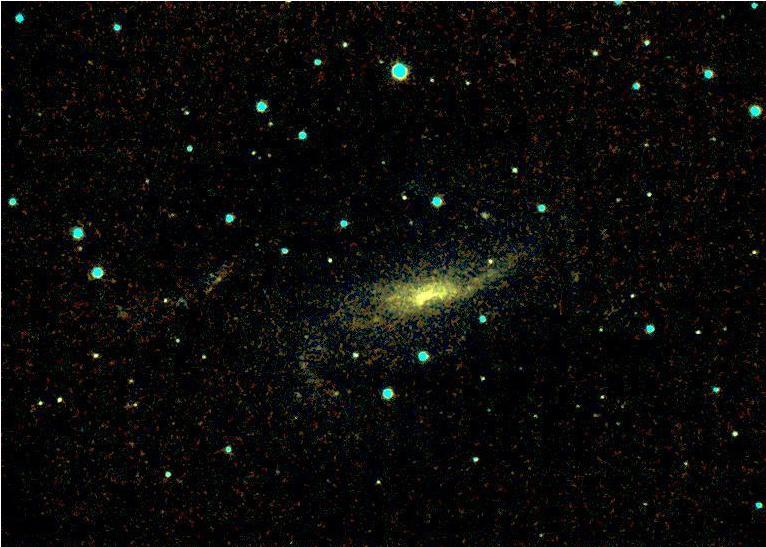star: (403, 285, 433, 315)
